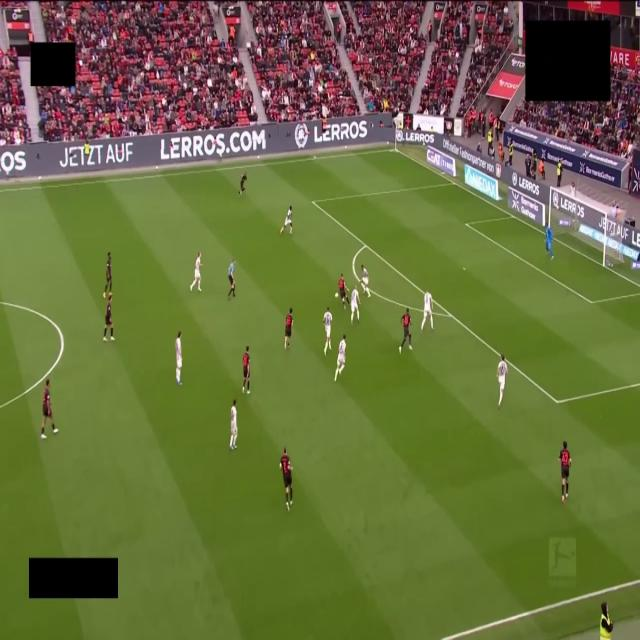ball: (335, 292, 338, 298)
player: (41, 379, 58, 439), (558, 441, 572, 503), (280, 448, 292, 510), (399, 309, 412, 352), (103, 293, 114, 341), (497, 355, 507, 407), (335, 335, 346, 381), (421, 292, 433, 332), (190, 252, 201, 292), (323, 307, 332, 355), (230, 399, 238, 451), (242, 346, 250, 394), (175, 331, 182, 384), (103, 252, 111, 298), (338, 274, 348, 310), (280, 206, 292, 234), (284, 308, 292, 349), (351, 288, 359, 324), (545, 224, 553, 259), (361, 265, 370, 296), (239, 174, 246, 195)
referee: (228, 259, 235, 300)
